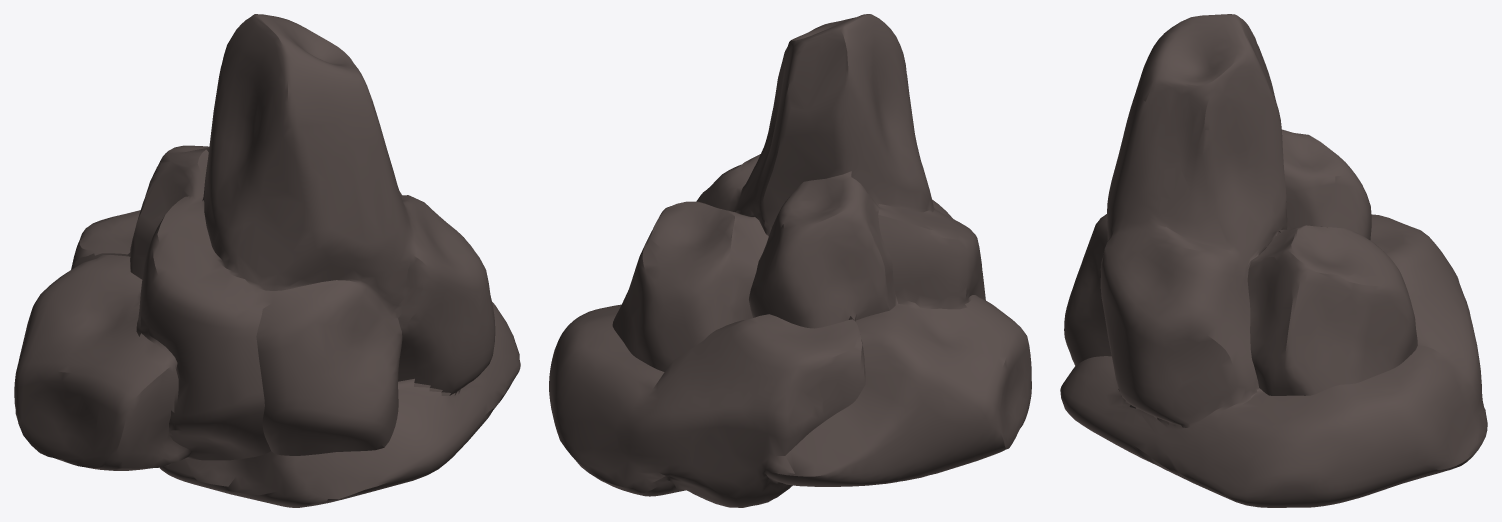
Rendered from Environment_Cliff3.gltf.
3 views of the same model, side by side, from view 1: azimuth 30°, elevation 25°; view 2: azimuth 150°, elevation 25°; view 3: azimuth 270°, elevation 25° (orthographic). The views are drawn at different scales.
Parts seen in each view (by area): view 1: Environment_Cliff3; view 2: Environment_Cliff3; view 3: Environment_Cliff3.
Boxes of the visible parts, x1,y1,x2,y2 form: Environment_Cliff3: [14, 14, 520, 507]; Environment_Cliff3: [549, 14, 1031, 507]; Environment_Cliff3: [1060, 14, 1487, 507].
Bounding box in the file's own units: 6.86 × 6.17 × 5.95.
1 material, 1 textured.
